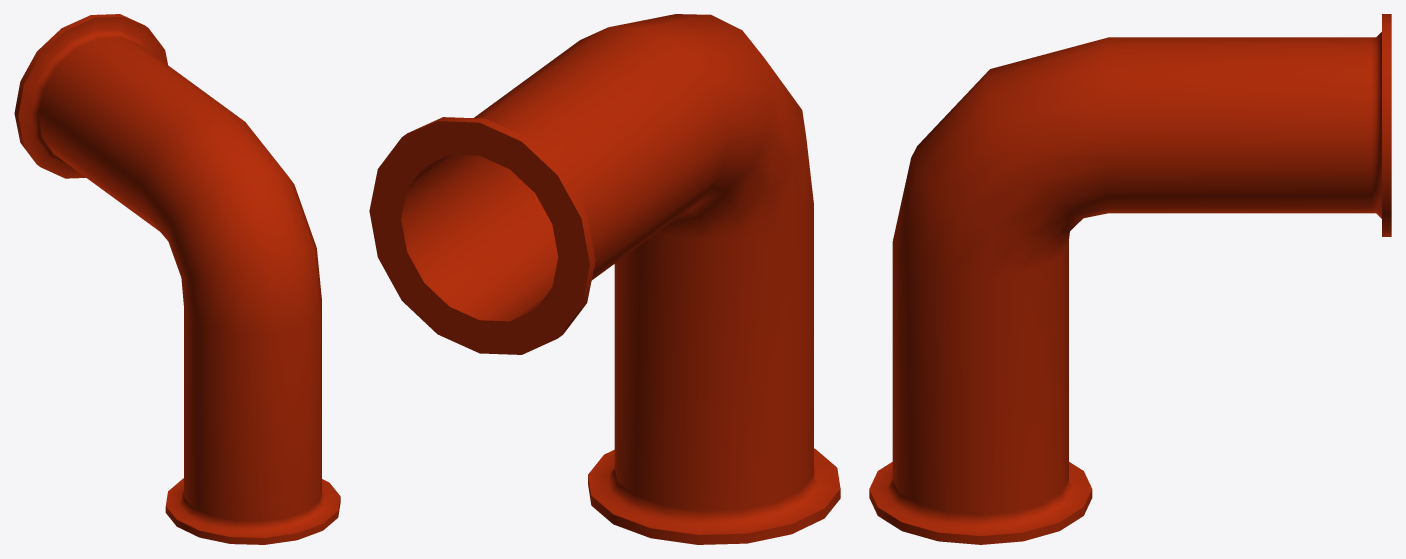
Rendered from Pipe_14.FBX.
3 views of the same model, side by side, from view 1: azimuth 30°, elevation 25°; view 2: azimuth 150°, elevation 25°; view 3: azimuth 270°, elevation 25° (orthographic). The views are drawn at different scales.
Parts seen in each view (by area): view 1: Pipe_up1_014_Low; view 2: Pipe_up1_014_Low; view 3: Pipe_up1_014_Low.
Part boxes in pixels (x1,y1,x2,y2): Pipe_up1_014_Low: [14, 14, 340, 544]; Pipe_up1_014_Low: [369, 14, 840, 544]; Pipe_up1_014_Low: [869, 14, 1391, 544].
Size of the model in its own units: 38 by 89.01 by 88.99.
